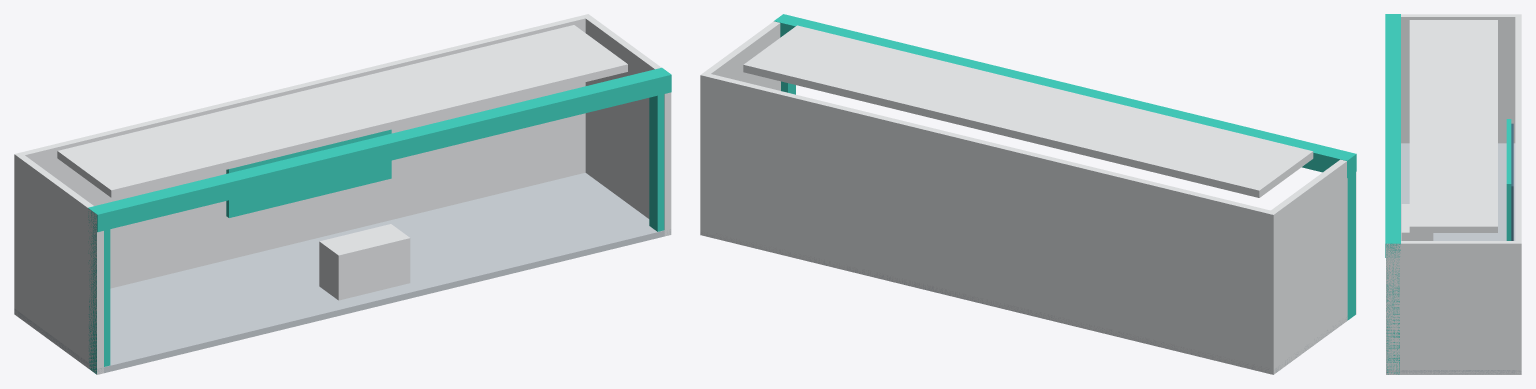
The picture shows the model from 3 angles, left to right: view 1: azimuth 30°, elevation 25°; view 2: azimuth 150°, elevation 25°; view 3: azimuth 270°, elevation 25°; orthographic projection. The views are drawn at different scales.
Visible parts, largest first — view 1: Exhibition Booth Concept; view 2: Exhibition Booth Concept; view 3: Exhibition Booth Concept.
Part boxes in pixels (box(x1,y1,x2,y2)): Exhibition Booth Concept: box(14, 14, 671, 374); Exhibition Booth Concept: box(700, 14, 1356, 374); Exhibition Booth Concept: box(1385, 14, 1521, 374).
Size of the model in its own units: 12 by 3.34 by 3.01.
